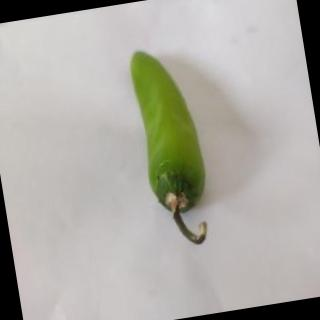Cabai Hijau: (122, 37, 224, 257)
